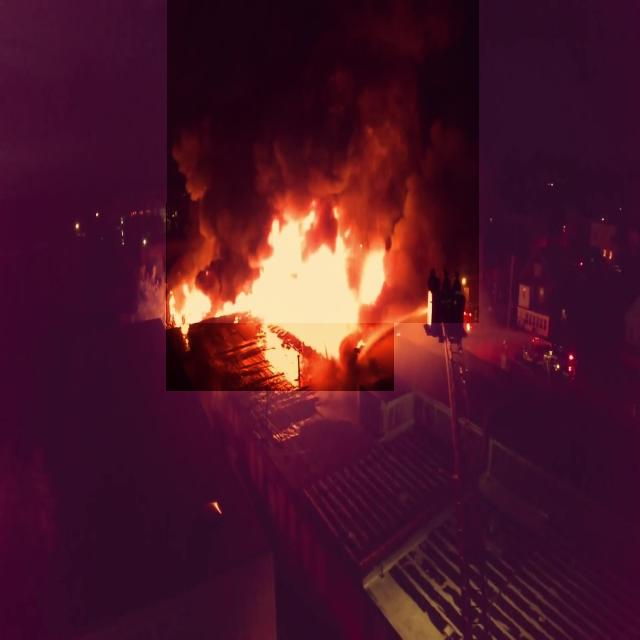Fire: (166, 203, 394, 391)
Smoke: (167, 0, 479, 323)
